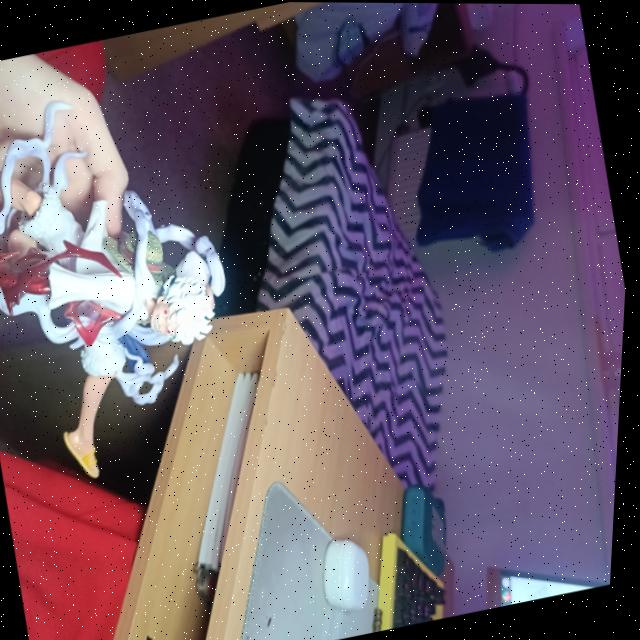luffy: (0, 21, 275, 498)
